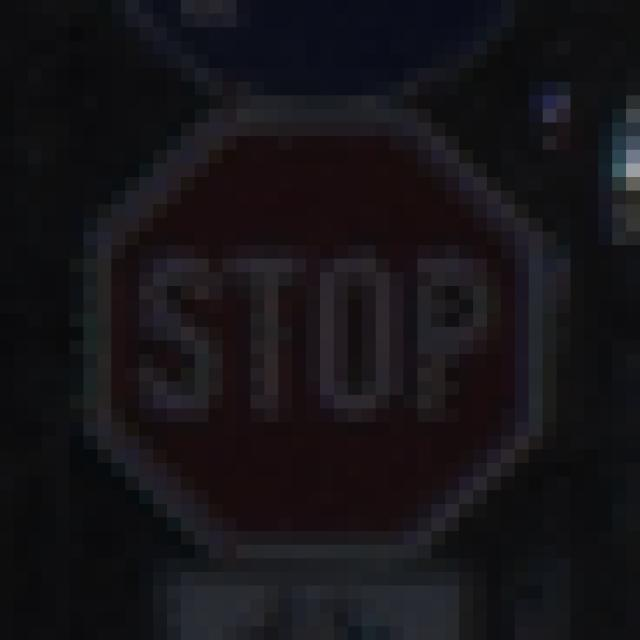STOP: (71, 69, 572, 573)
